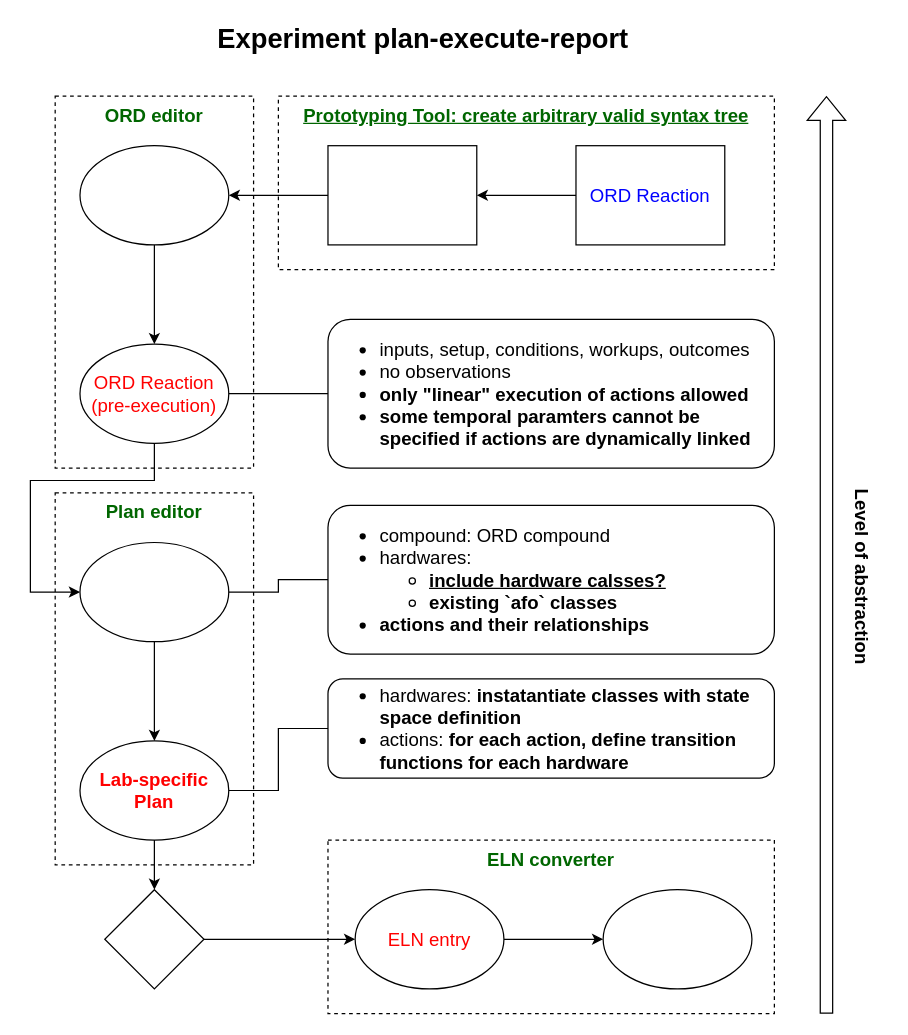
Some shapes in this 908 by 1035 pixel diagram are drawn without their labels. Here are the shapes that lost their labels. From the top down, the centre of each, then its label:
At (154,194): "ORD Reaction prototype".
At (402,194): "ORD Reaction Prototpy".
At (154,591): "Iteroperable Plan".
At (154,938): "exe".
At (677,938): "ORD Reaction (post-execution)".
